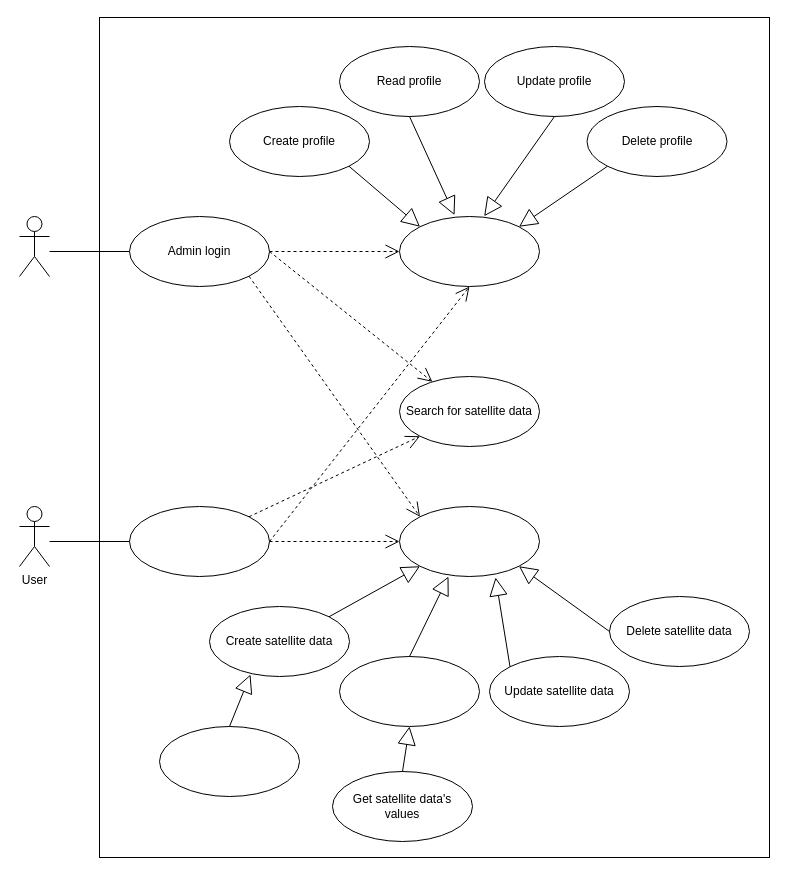
The diagram is 787 pixels wide and 875 high, and some of its shapes have lost their labels. Here are the shapes that lost their labels. From the top down, the centre of each, then its label:
(x=34, y=246): Admin
(x=469, y=251): Manage profile
(x=199, y=541): User login
(x=469, y=541): Manage satellite data
(x=409, y=691): Read satellite data
(x=229, y=761): Upload satellite data
